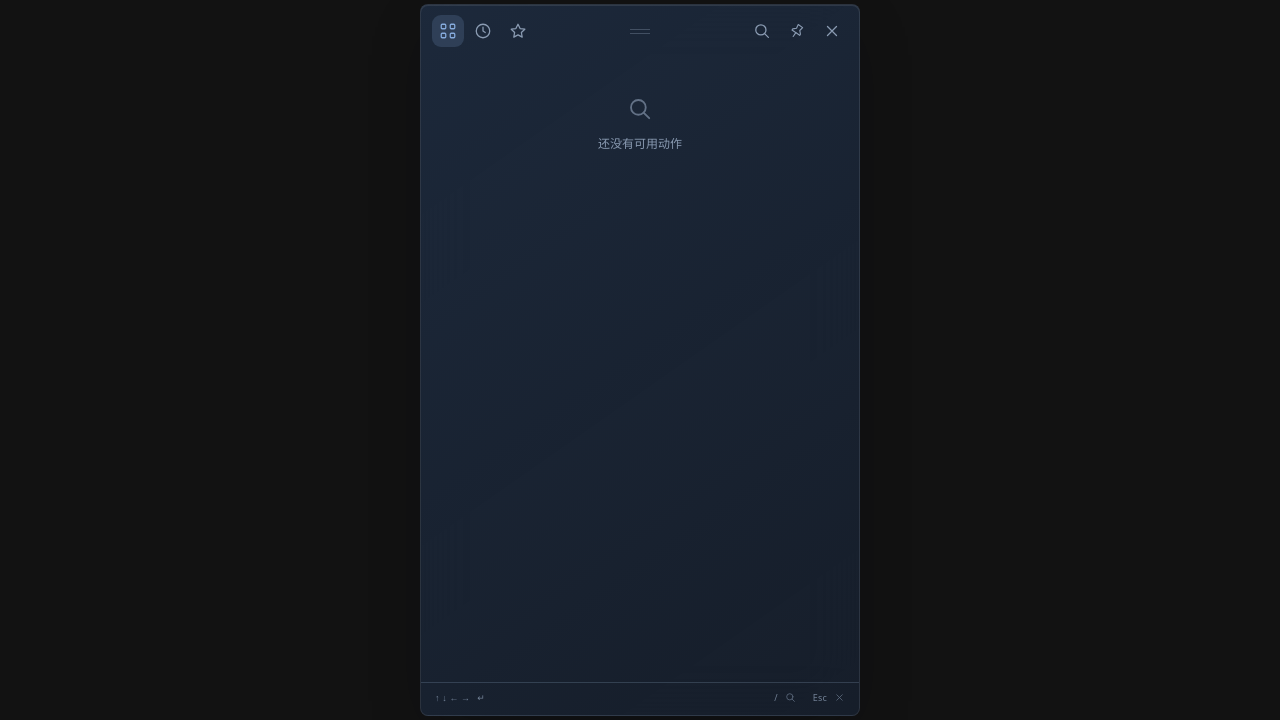
Test case: LauncherPage native window interactions › 原生拖动失败时展示错误，便于识别旧进程或命令不可用
Press the mouse on the header with class "launcher-header" at (640, 30), box [421,5,859,54]
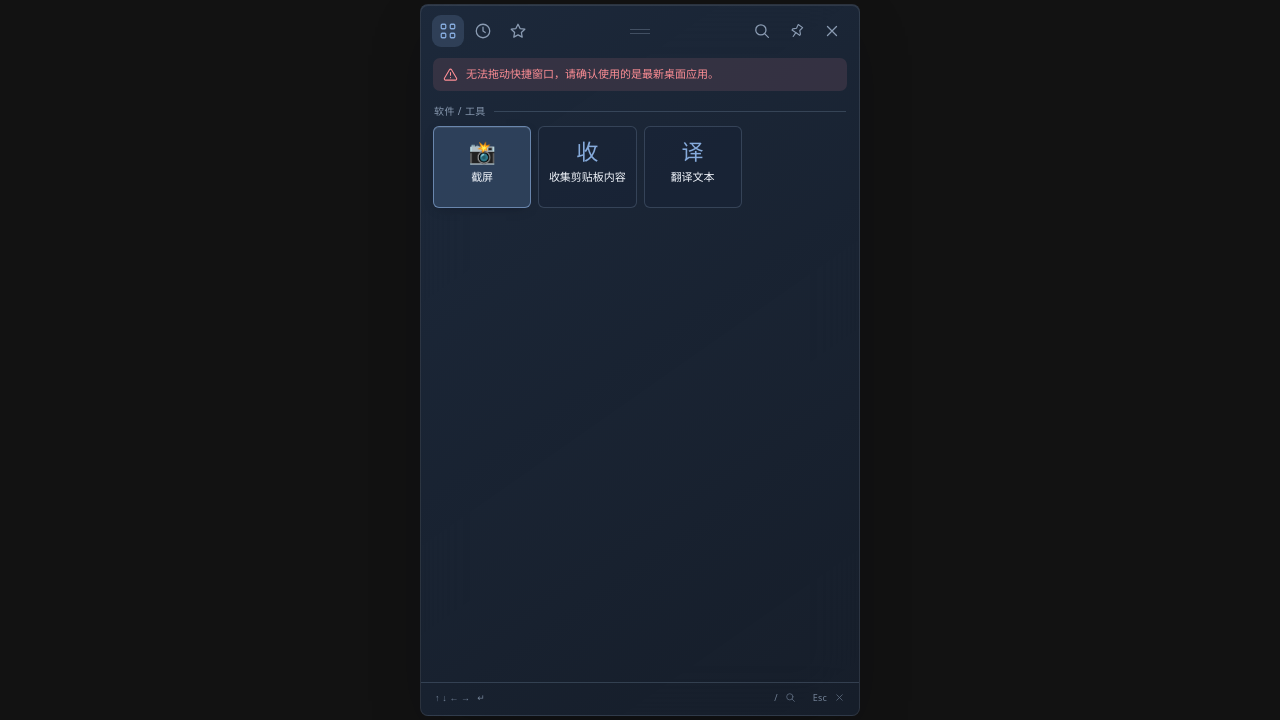
Now the message shows "无法拖动快捷窗口", box [466,66,719,81]
